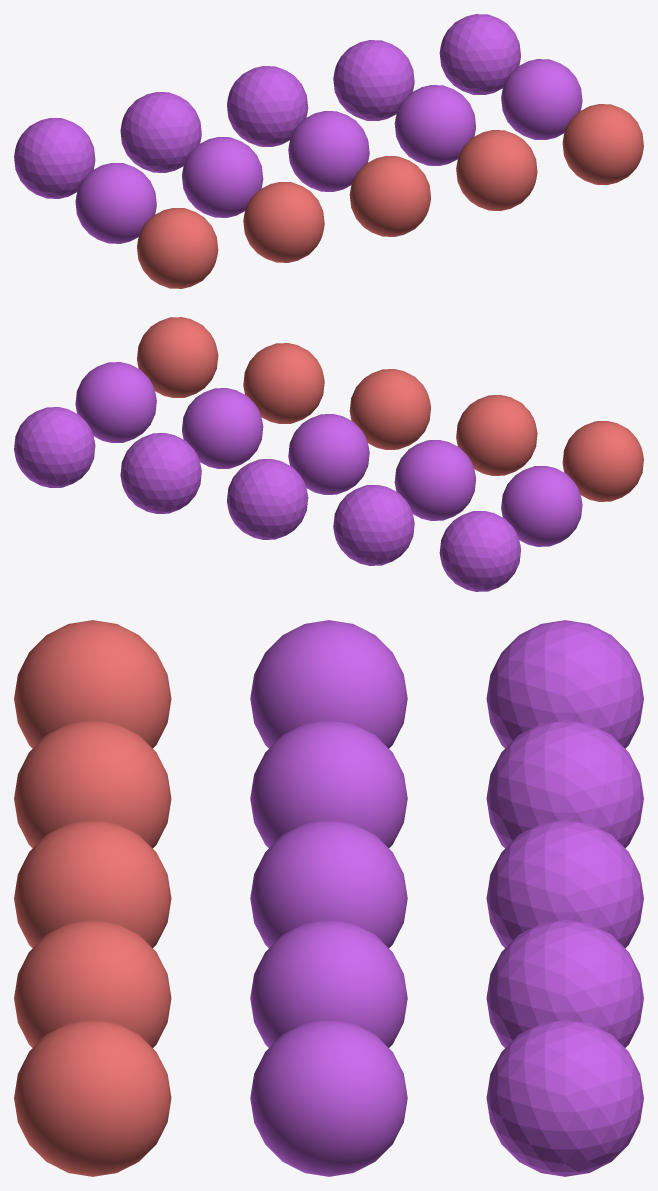
The model's file is spheres.glb.
3 renders of one model, top to bottom at view 1: azimuth 30°, elevation 25°; view 2: azimuth 150°, elevation 25°; view 3: azimuth 270°, elevation 25°, orthographic. The views are drawn at different scales.
Parts seen in each view (by area): view 1: Icosphere.011, Icosphere.012, Icosphere.013, Icosphere.010, Icosphere.014, Icosphere, Icosphere.008, Icosphere.005, Icosphere.003, Icosphere.006, Icosphere.009, Icosphere.001 (+3 smaller); view 2: Icosphere.003, Icosphere.005, Icosphere.007, Icosphere.001, Icosphere.009, Icosphere, Icosphere.008, Icosphere.012, Icosphere.011, Icosphere.006, Icosphere.014, Icosphere.010 (+3 smaller); view 3: Icosphere.006, Icosphere.007, Icosphere.013, Icosphere.008, Icosphere.001, Icosphere.010, Icosphere.003, Icosphere.005, Icosphere.011, Icosphere.012, Icosphere.009, Icosphere.014 (+3 smaller).
Part boxes in pixels (box(x1,y1,x2,y2)): Icosphere.011: box(243, 182, 324, 262); Icosphere.012: box(456, 130, 537, 210); Icosphere.013: box(562, 104, 643, 184); Icosphere.010: box(349, 156, 430, 236); Icosphere.014: box(137, 208, 218, 288); Icosphere: box(288, 111, 369, 191); Icosphere.008: box(75, 163, 156, 243); Icosphere.005: box(333, 40, 414, 120); Icosphere.003: box(120, 92, 201, 172); Icosphere.006: box(501, 59, 582, 139); Icosphere.009: box(14, 118, 95, 198); Icosphere.001: box(227, 66, 308, 146); Icosphere.003: box(333, 485, 414, 565); Icosphere.005: box(120, 433, 201, 513); Icosphere.007: box(14, 407, 95, 487); Icosphere.001: box(227, 459, 308, 539); Icosphere.009: box(439, 511, 520, 591); Icosphere: box(288, 414, 369, 494); Icosphere.008: box(501, 466, 582, 546); Icosphere.012: box(243, 343, 324, 423); Icosphere.011: box(456, 395, 537, 475); Icosphere.006: box(75, 362, 156, 442); Icosphere.014: box(562, 421, 643, 501); Icosphere.010: box(349, 369, 430, 449); Icosphere.006: box(250, 1019, 407, 1176); Icosphere.007: box(486, 1019, 643, 1176); Icosphere.013: box(14, 1019, 171, 1176); Icosphere.008: box(250, 620, 407, 748); Icosphere.001: box(486, 819, 643, 948); Icosphere.010: box(14, 819, 171, 948); Icosphere.003: box(486, 720, 643, 848); Icosphere.005: box(486, 919, 643, 1047); Icosphere.011: box(14, 720, 171, 848); Icosphere.012: box(14, 919, 171, 1047); Icosphere.009: box(486, 620, 643, 748); Icosphere.014: box(14, 620, 171, 748).
Size of the model in its own units: 0.7 by 0.1 by 0.4.
